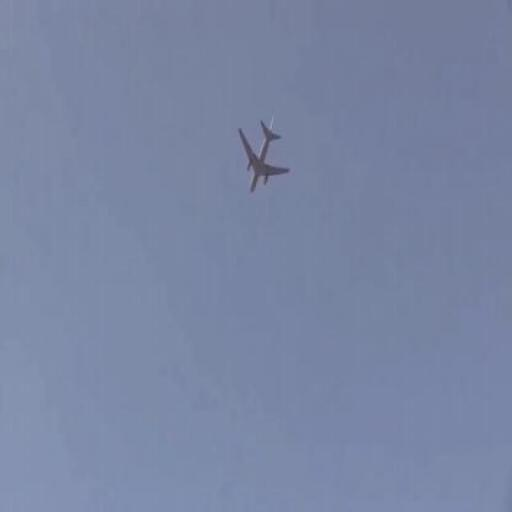aircraft: (235, 121, 289, 192)
